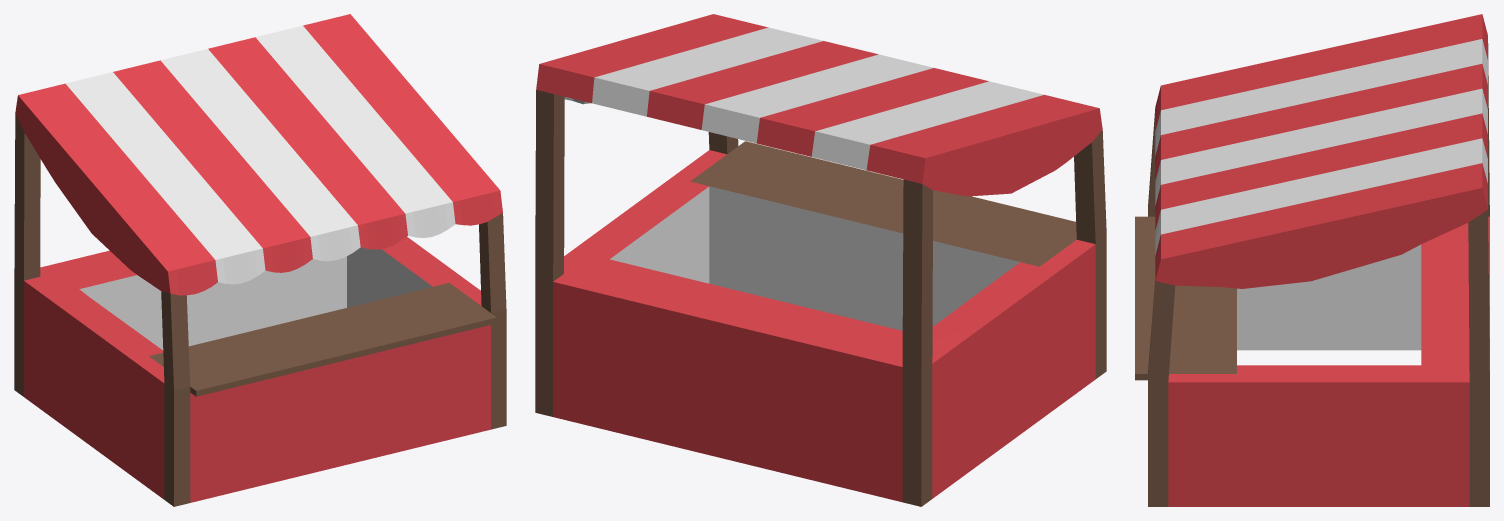
Rendered from foodStall.glb.
The picture shows the model from 3 angles, left to right: view 1: azimuth 30°, elevation 25°; view 2: azimuth 150°, elevation 25°; view 3: azimuth 270°, elevation 25°; orthographic projection. The views are drawn at different scales.
Parts seen in each view (by area): view 1: stall; view 2: stall; view 3: stall.
Part boxes in pixels (x1,y1,x2,y2): stall: [14, 14, 506, 506]; stall: [535, 14, 1106, 506]; stall: [1135, 14, 1489, 506].
Size of the model in its own units: 5.98 by 5.11 by 5.15.
